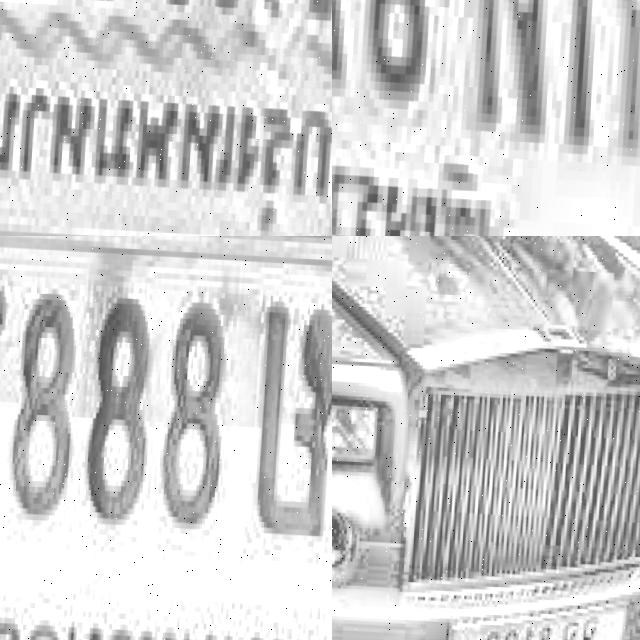license-plate: (0, 236, 332, 640), (0, 0, 332, 236), (332, 0, 640, 236), (445, 589, 630, 640)
